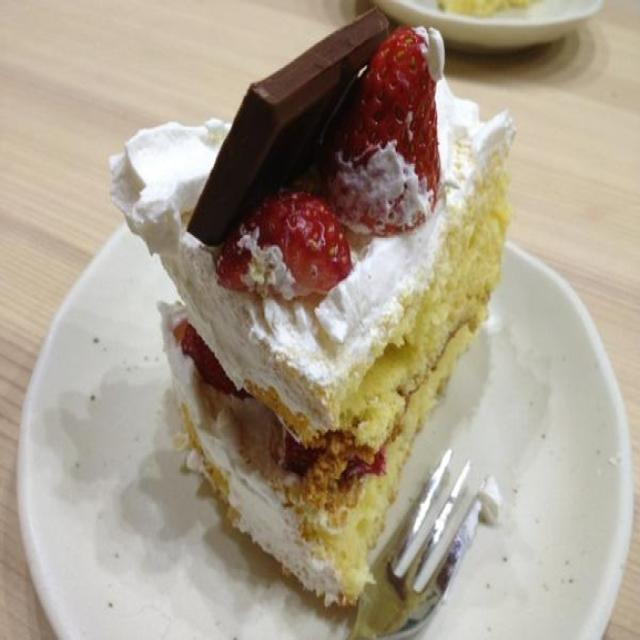蛋糕甜品: (18, 21, 616, 631)
